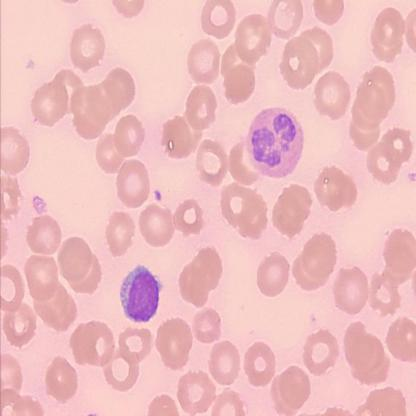Segmented neutrophil: (245, 104, 306, 181)
